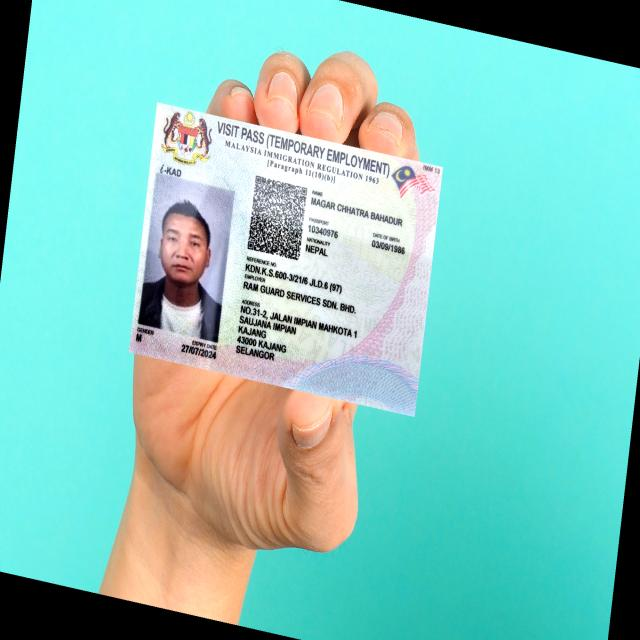ikad-temp: (128, 100, 443, 418)
